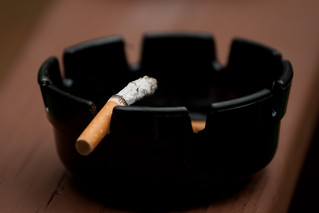cigarette: (73, 74, 159, 156)
